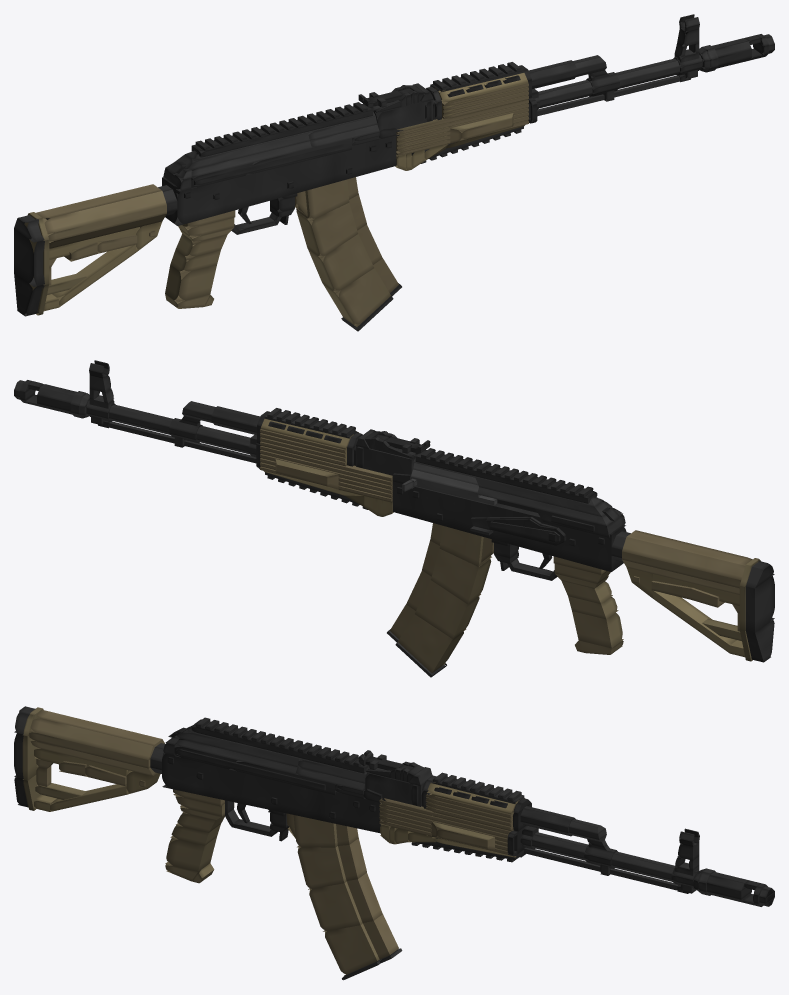
3 renders of one model, top to bottom at view 1: azimuth 30°, elevation 25°; view 2: azimuth 150°, elevation 25°; view 3: azimuth 330°, elevation 25°, orthographic.
Visible parts, largest first — view 1: gunModel0, gunModel149, ammoModel7, ammoModel1, ammoModel9, gunModel204, gunModel224, gunModel162, gunModel158, ammoModel0, gunModel46, gunModel67 (+21 smaller); view 2: gunModel0, gunModel149, ammoModel7, ammoModel1, ammoModel9, gunModel204, gunModel224, gunModel162, gunModel158, gunModel46, ammoModel0, gunModel67 (+19 smaller); view 3: gunModel0, gunModel149, ammoModel7, ammoModel9, ammoModel1, gunModel204, gunModel224, ammoModel0, gunModel67, gunModel46, gunModel20, gunModel54 (+27 smaller).
Part boxes in pixels (box(x1,y1,x2,y2)): gunModel0: box(162, 135, 396, 225); gunModel149: box(36, 184, 166, 234); ammoModel7: box(308, 234, 373, 293); ammoModel1: box(296, 203, 357, 258); ammoModel9: box(323, 268, 390, 326); gunModel204: box(191, 104, 373, 157); gunModel224: box(165, 260, 216, 302); gunModel162: box(14, 228, 44, 286); gunModel158: box(52, 244, 135, 307); ammoModel0: box(296, 179, 349, 220); gunModel46: box(174, 133, 309, 170); gunModel67: box(538, 54, 703, 100); gunModel0: box(392, 481, 626, 571); gunModel149: box(622, 530, 752, 580); ammoModel7: box(415, 580, 479, 638); ammoModel1: box(431, 549, 491, 604); ammoModel9: box(398, 614, 463, 672); gunModel204: box(415, 450, 597, 503); gunModel224: box(572, 611, 623, 648); gunModel162: box(745, 576, 774, 632); gunModel158: box(653, 590, 736, 653); gunModel46: box(475, 478, 614, 516); ammoModel0: box(439, 525, 491, 566); gunModel67: box(86, 401, 250, 446); gunModel0: box(162, 753, 380, 832); gunModel149: box(30, 710, 164, 759); ammoModel7: box(309, 881, 362, 931); ammoModel9: box(325, 923, 379, 975); ammoModel1: box(297, 846, 346, 889); gunModel204: box(191, 719, 369, 773); gunModel224: box(165, 837, 216, 871); ammoModel0: box(293, 815, 337, 847); gunModel67: box(521, 832, 696, 878); gunModel46: box(174, 725, 302, 766); gunModel20: box(365, 768, 423, 806); gunModel54: box(176, 746, 325, 790).
Bounding box in the file's own units: 28.25 × 8.14 × 1.9.
